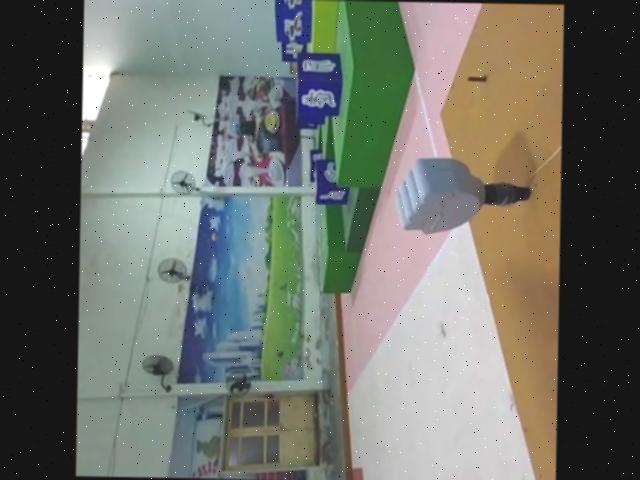Fist: (395, 157, 537, 235)
